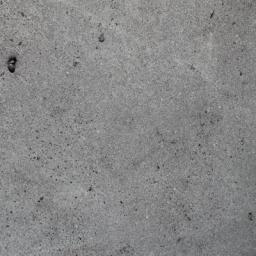FOD: (7, 56, 20, 76)
